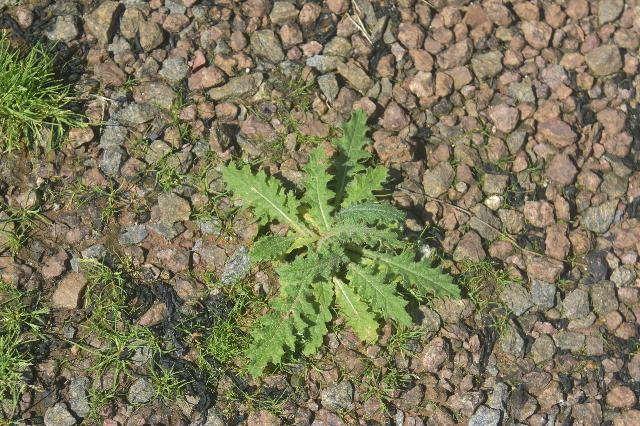MalezaMontesDelPlata: (194, 102, 467, 381), (63, 241, 183, 415), (0, 30, 91, 161), (0, 271, 57, 421)
